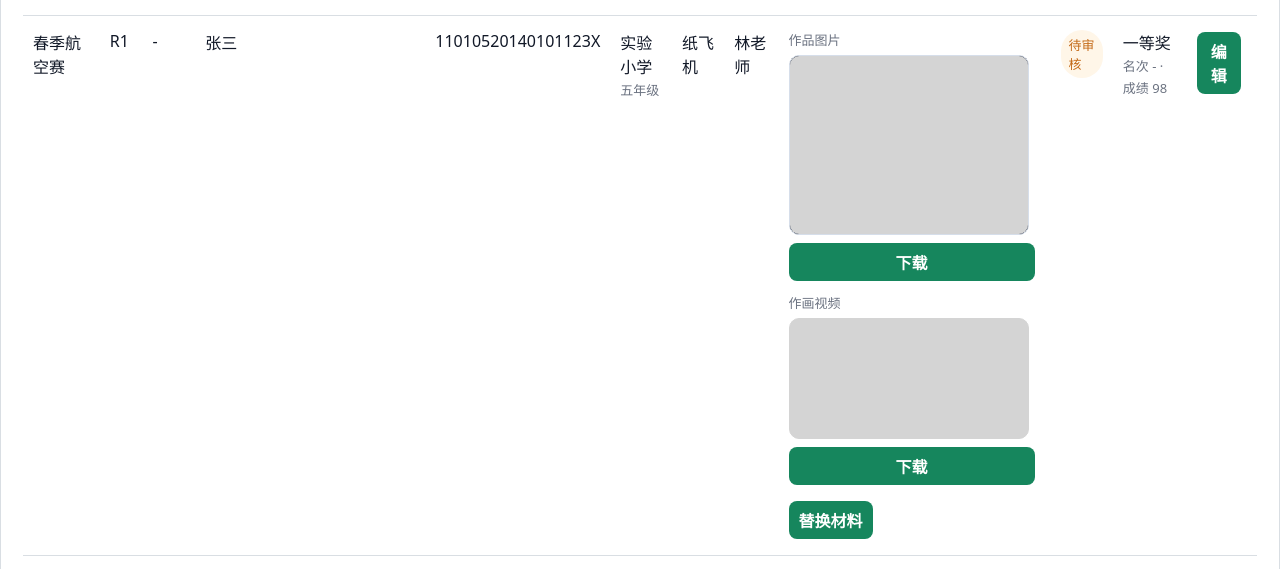
it: OrganizationRegistrationRecordsPage › shows a safe Chinese replacement-session error for status 403
The width and height of the screenshot is (1280, 569).
(page scrolled)
Step 1. Click the button "替换材料" → (831, 520), box left=789, top=501, right=873, bottom=539
(page scrolled)
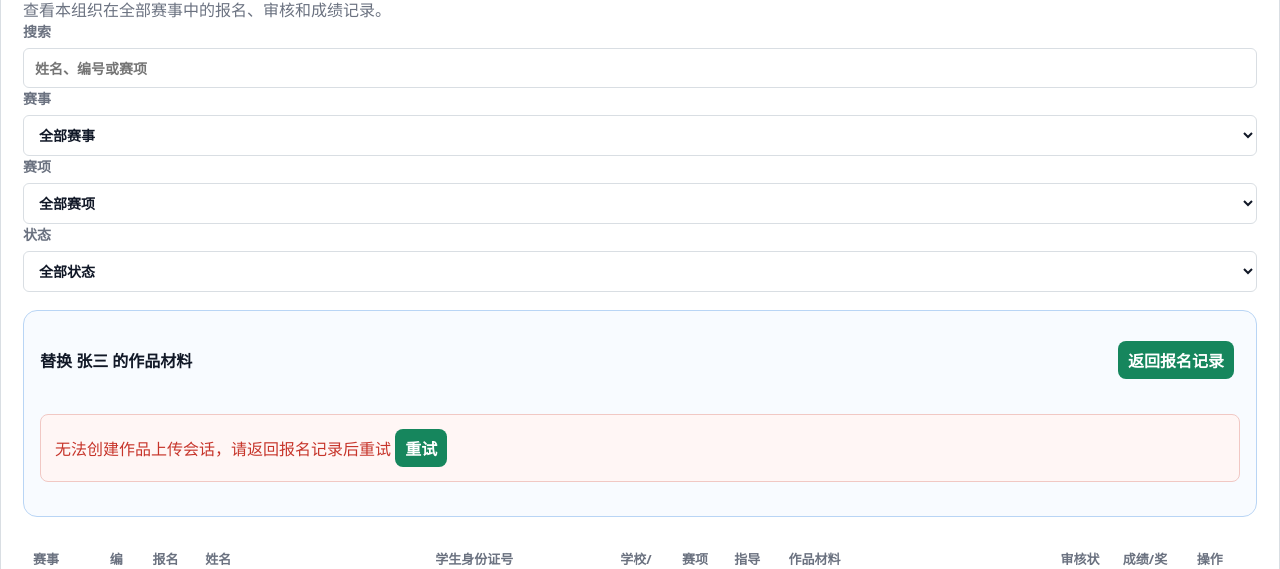
Expected: the message "无法创建作品上传会话，请返回报名记录后重试 重试" is shown, left=40, top=414, right=1240, bottom=482
Expected: the button "重试" is shown, left=395, top=428, right=447, bottom=466
Expected: the button "返回报名记录" is shown, left=1118, top=341, right=1234, bottom=379
